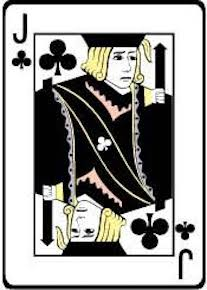JackOfClubs: (4, 3, 207, 287)
